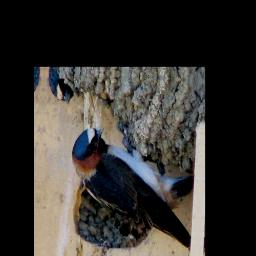Swallow: (66, 125, 194, 256)
